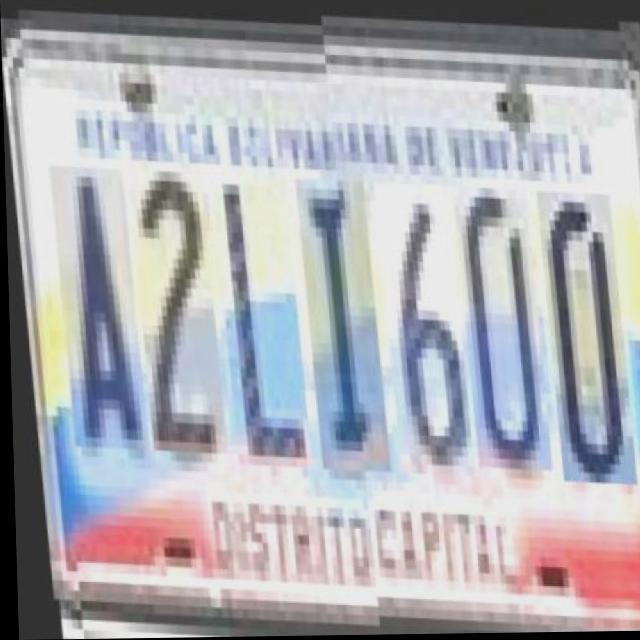0: (532, 184, 628, 479), (449, 181, 543, 467)
2: (122, 148, 218, 444)
6: (370, 177, 466, 472)
a: (45, 155, 139, 441)
i: (290, 164, 381, 460)
l: (207, 161, 302, 456)
